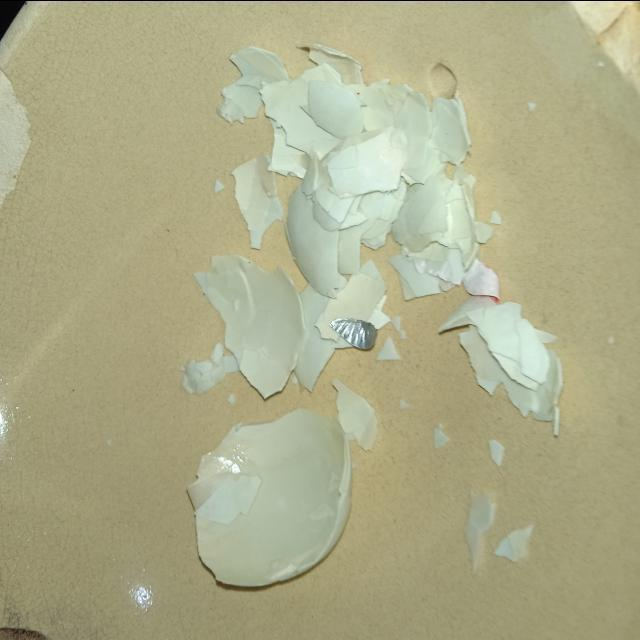egg shell: (166, 408, 376, 596), (424, 280, 584, 452), (180, 246, 314, 404), (289, 170, 349, 294), (312, 262, 388, 354), (259, 98, 325, 186), (392, 170, 458, 254), (327, 130, 402, 194), (229, 162, 280, 248), (305, 66, 364, 136), (431, 92, 470, 166), (228, 53, 294, 95)
